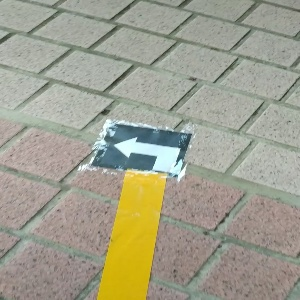left: (89, 121, 193, 178)
